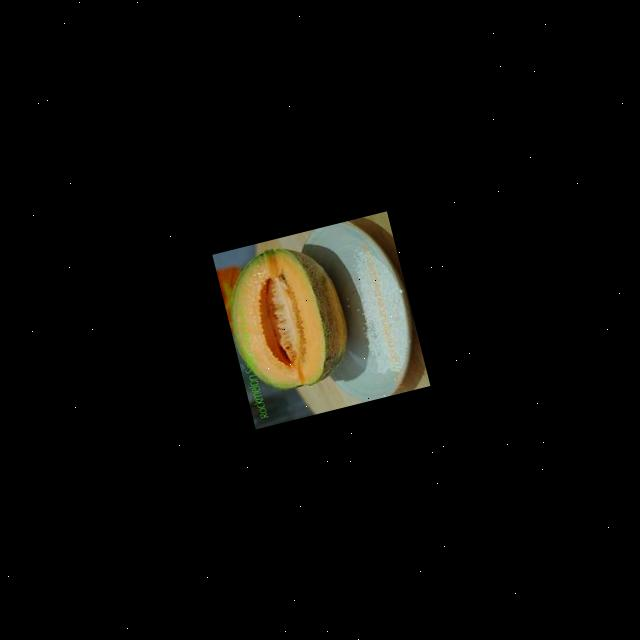Hami Melon: (214, 236, 356, 401)
